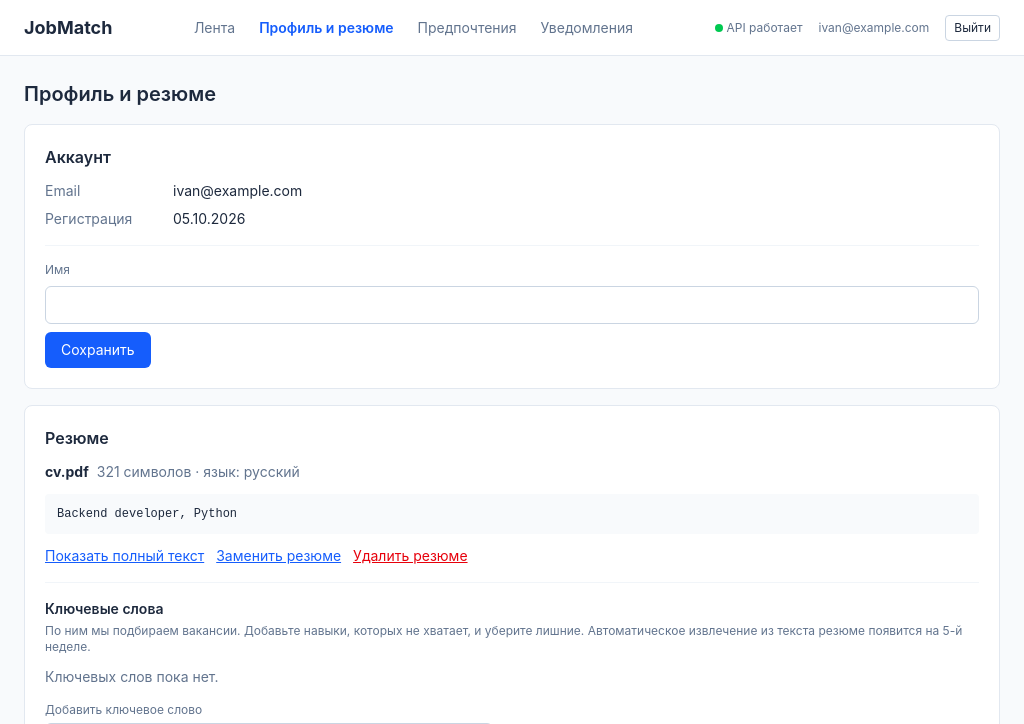
Test case: резюме › удаление резюме требует подтверждения
Click the button "Удалить резюме". click: (410, 556)
box: [353, 546, 468, 566]
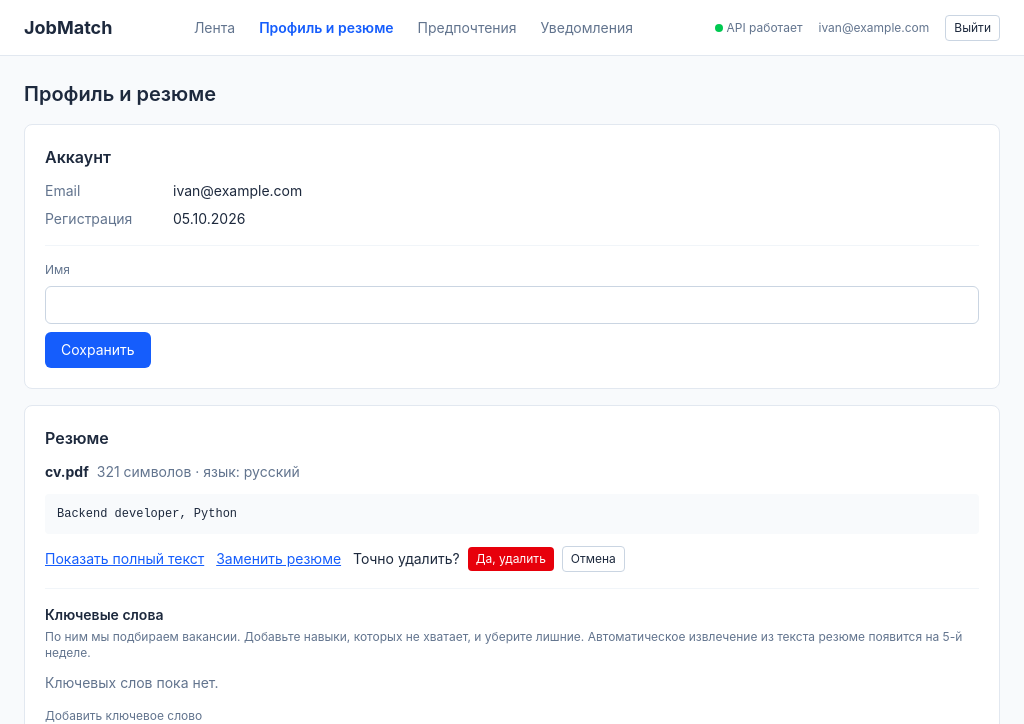
Click the button "Да, удалить". click: (511, 559)
box: [468, 547, 554, 571]
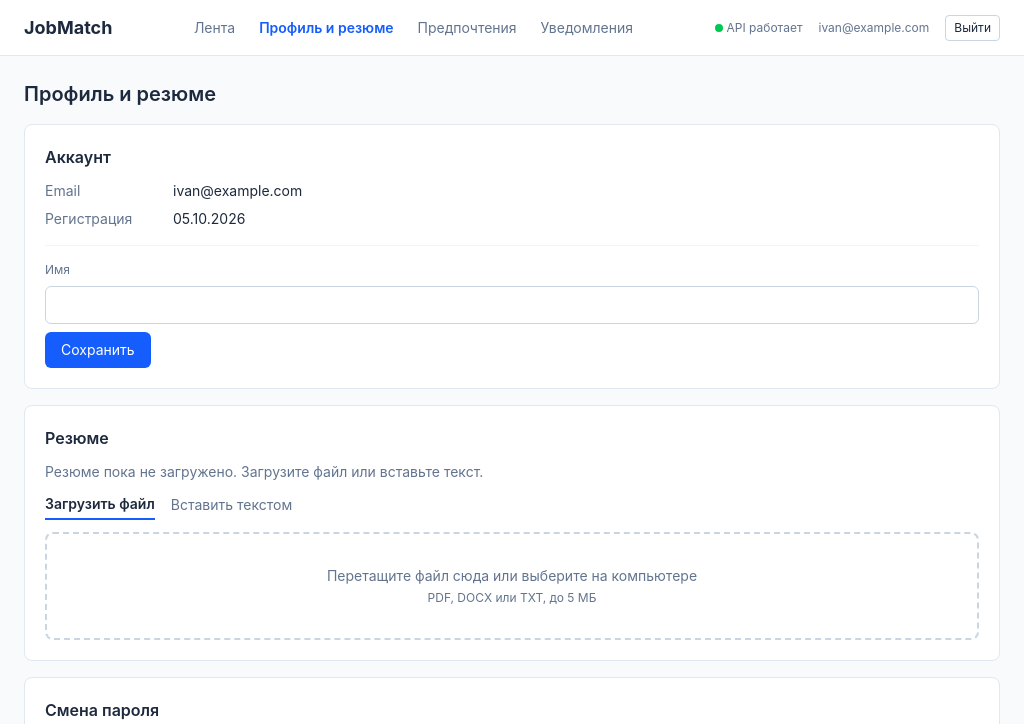
Expected: the text "Резюме пока не загружено. Загрузите файл или вставьте текст." is shown, [45, 463, 483, 480]
